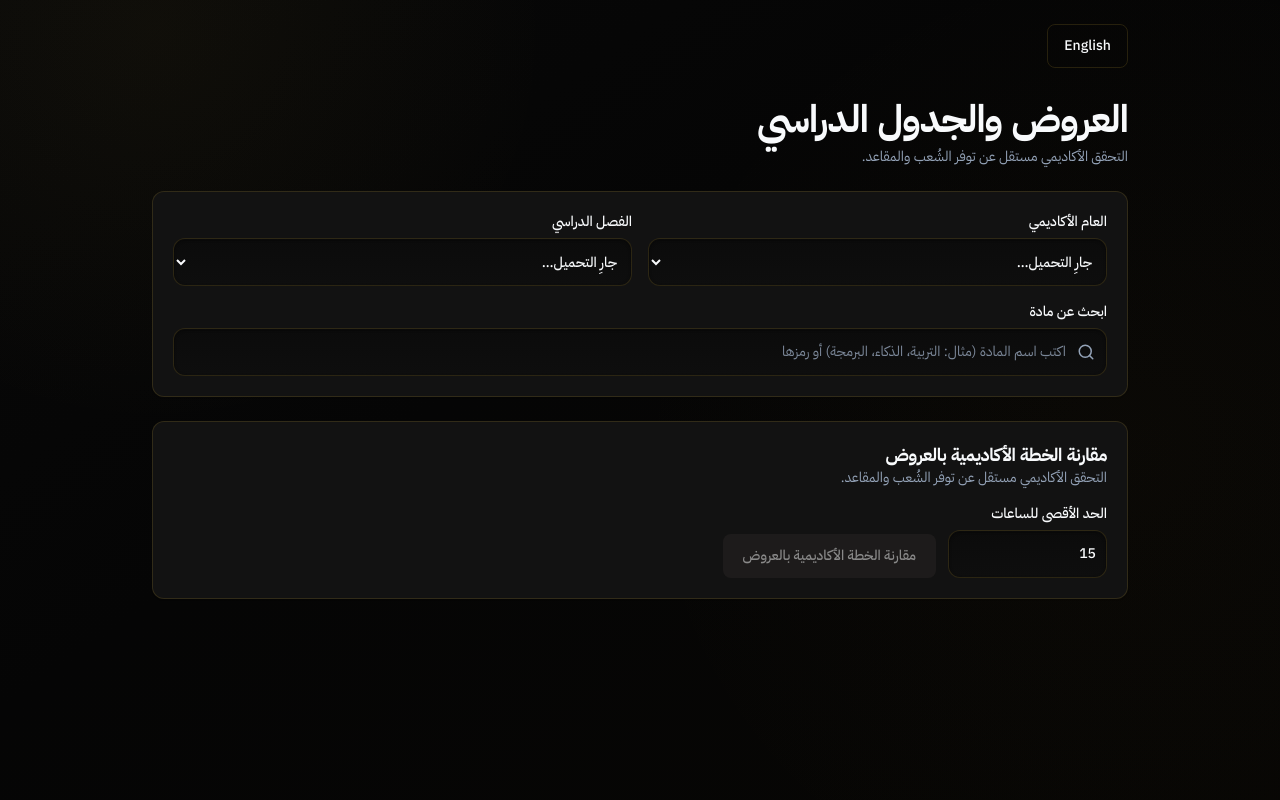
clear search button resets query and selection, and Escape closes dropdown
Type "رياضيات" into the dropdown labelled "ابحث عن مادة" at (640, 352), box [173,328,1107,376]
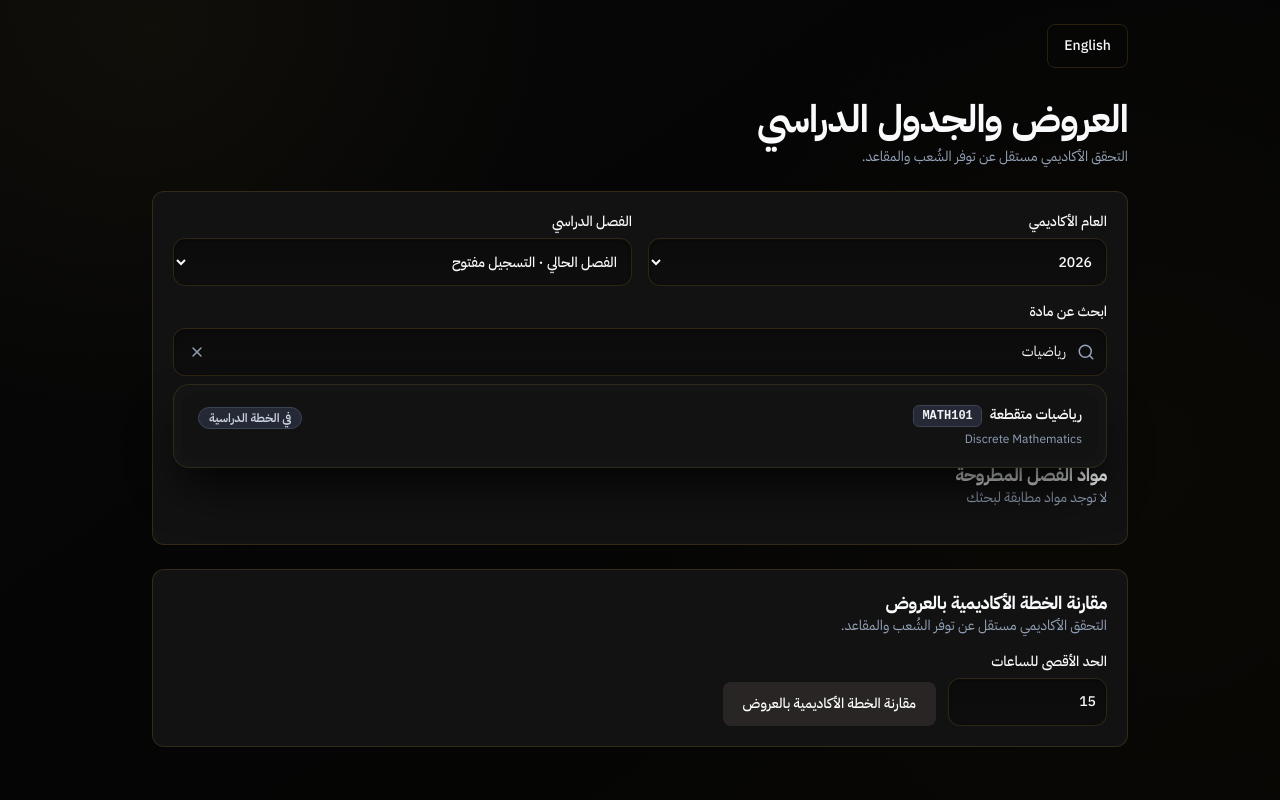
Expected: the option "رياضيات متقطعة" is shown, [182,393,1098,459]
// Escape dismisses dropdown
Press Escape in the dropdown labelled "ابحث عن مادة", box [173,328,1107,376]
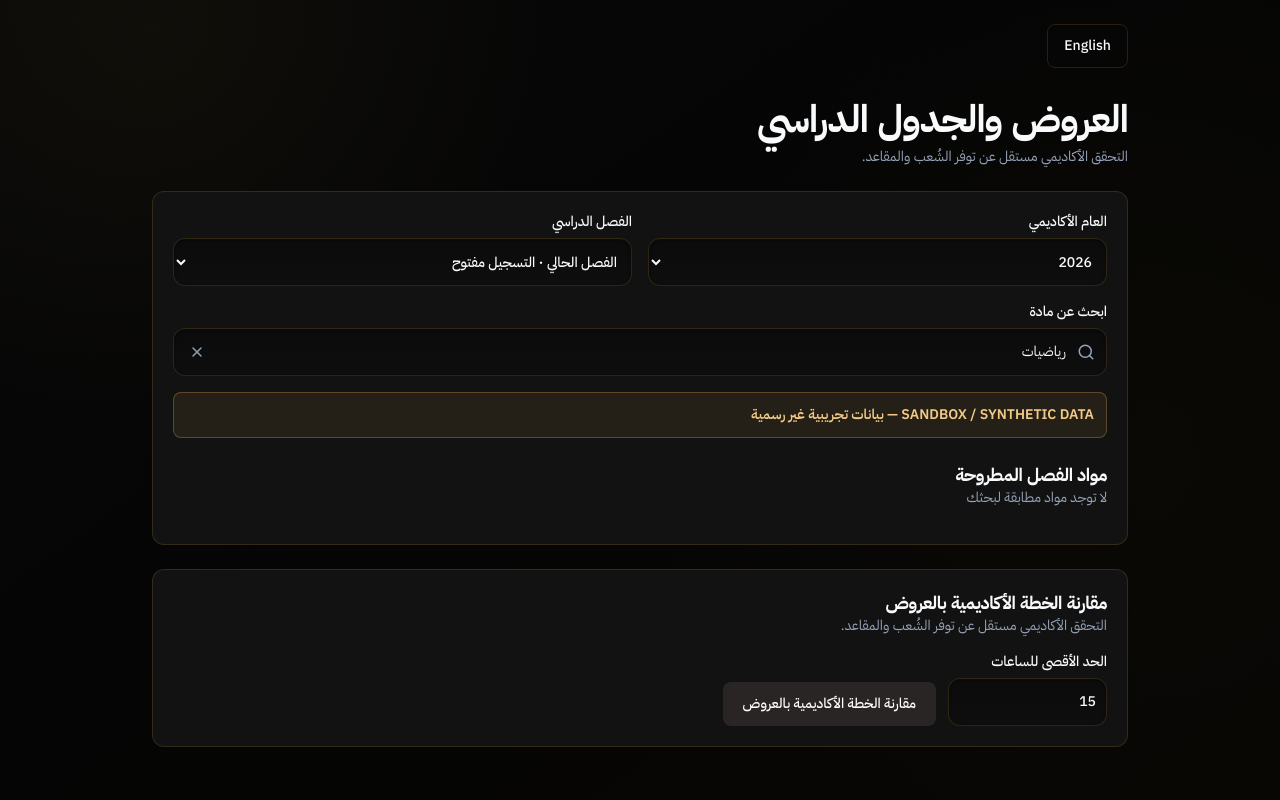
Expected: the option "رياضيات متقطعة" is gone
// Re-open on focus or down arrow
Focus the dropdown labelled "ابحث عن مادة" at (640, 352), box [173,328,1107,376]
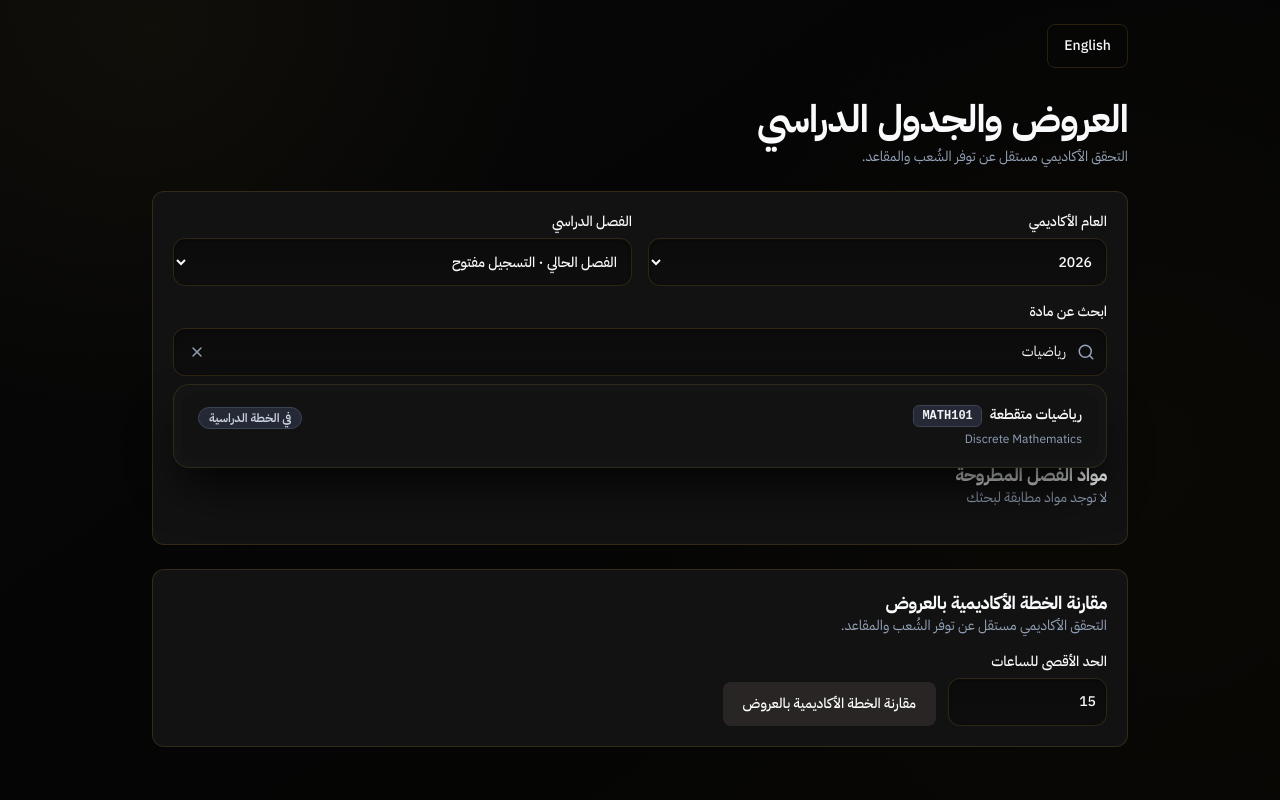
Expected: the option "رياضيات متقطعة" is shown, [182,393,1098,459]
// Clear button resets search
Click the button named "مسح البحث" at (197, 352), box [185,340,209,364]
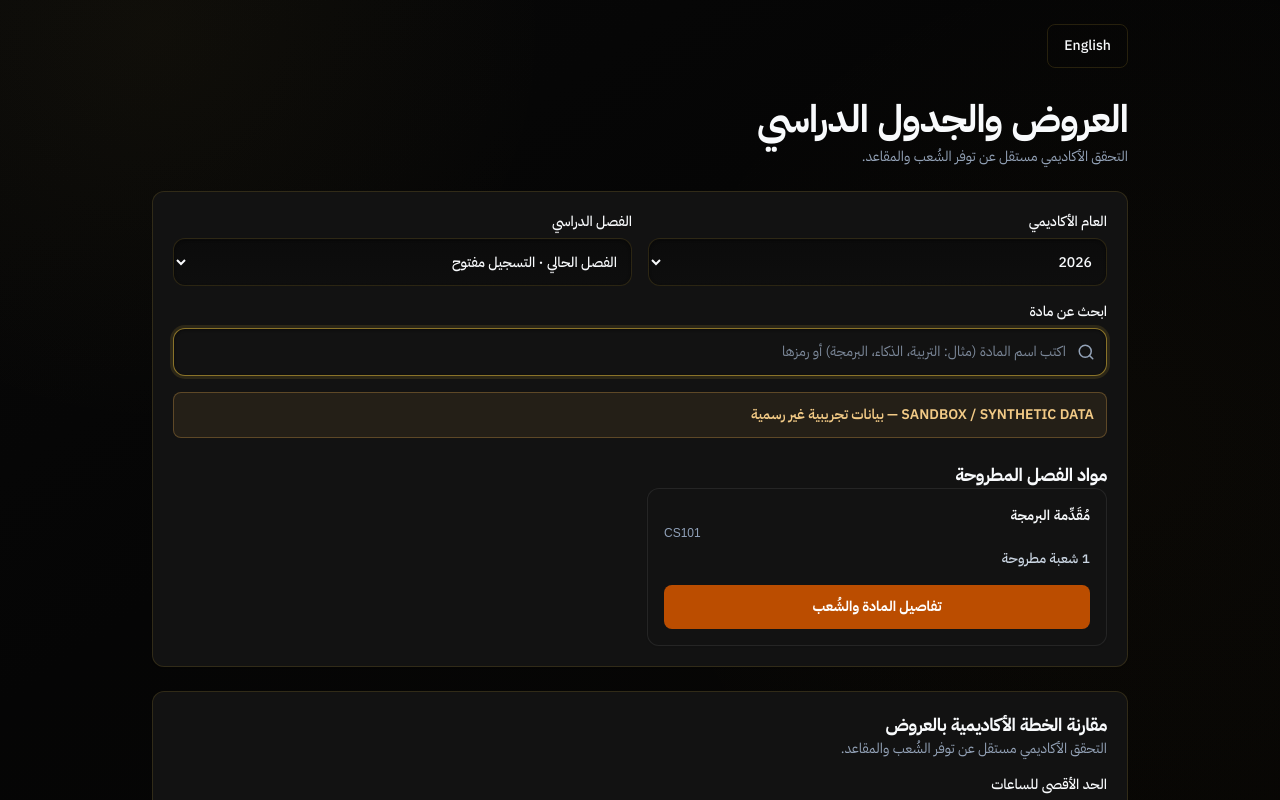
Expected: the dropdown labelled "ابحث عن مادة" is empty, [173,328,1107,376]
Expected: the option "رياضيات متقطعة" is gone
